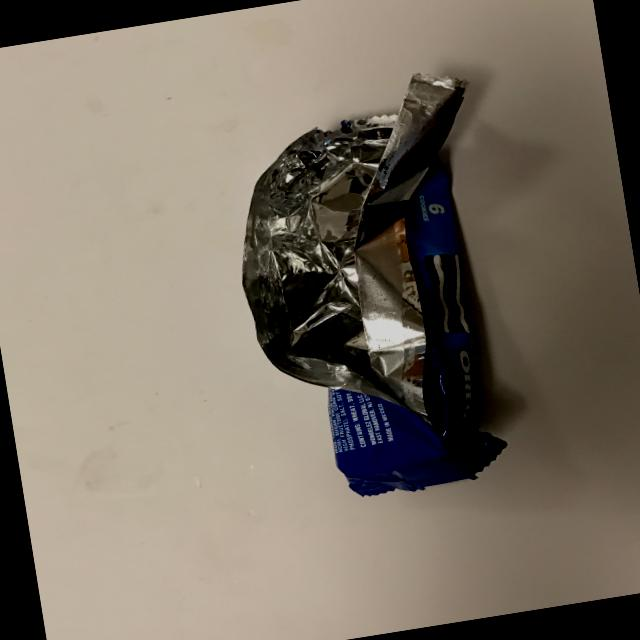Plastic: (202, 55, 577, 528)
